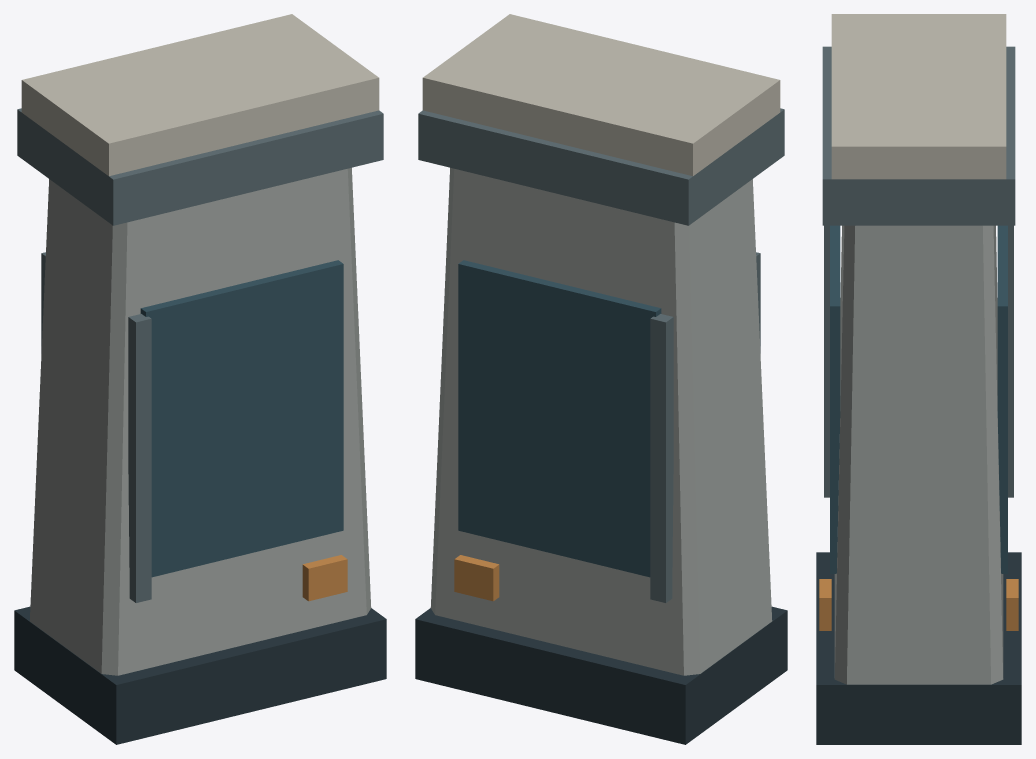
Rendered from wall_t1_seg.glb.
The picture shows the model from 3 angles, left to right: view 1: azimuth 30°, elevation 25°; view 2: azimuth 150°, elevation 25°; view 3: azimuth 270°, elevation 25°; orthographic projection.
Visible parts, largest first — view 1: body; view 2: body; view 3: body.
Part boxes in pixels (<box>): body: <box>14,14,386,744</box>; body: <box>415,14,787,744</box>; body: <box>816,14,1021,744</box>.
Bounding box in the file's own units: 1.04 × 2.19 × 0.68.
